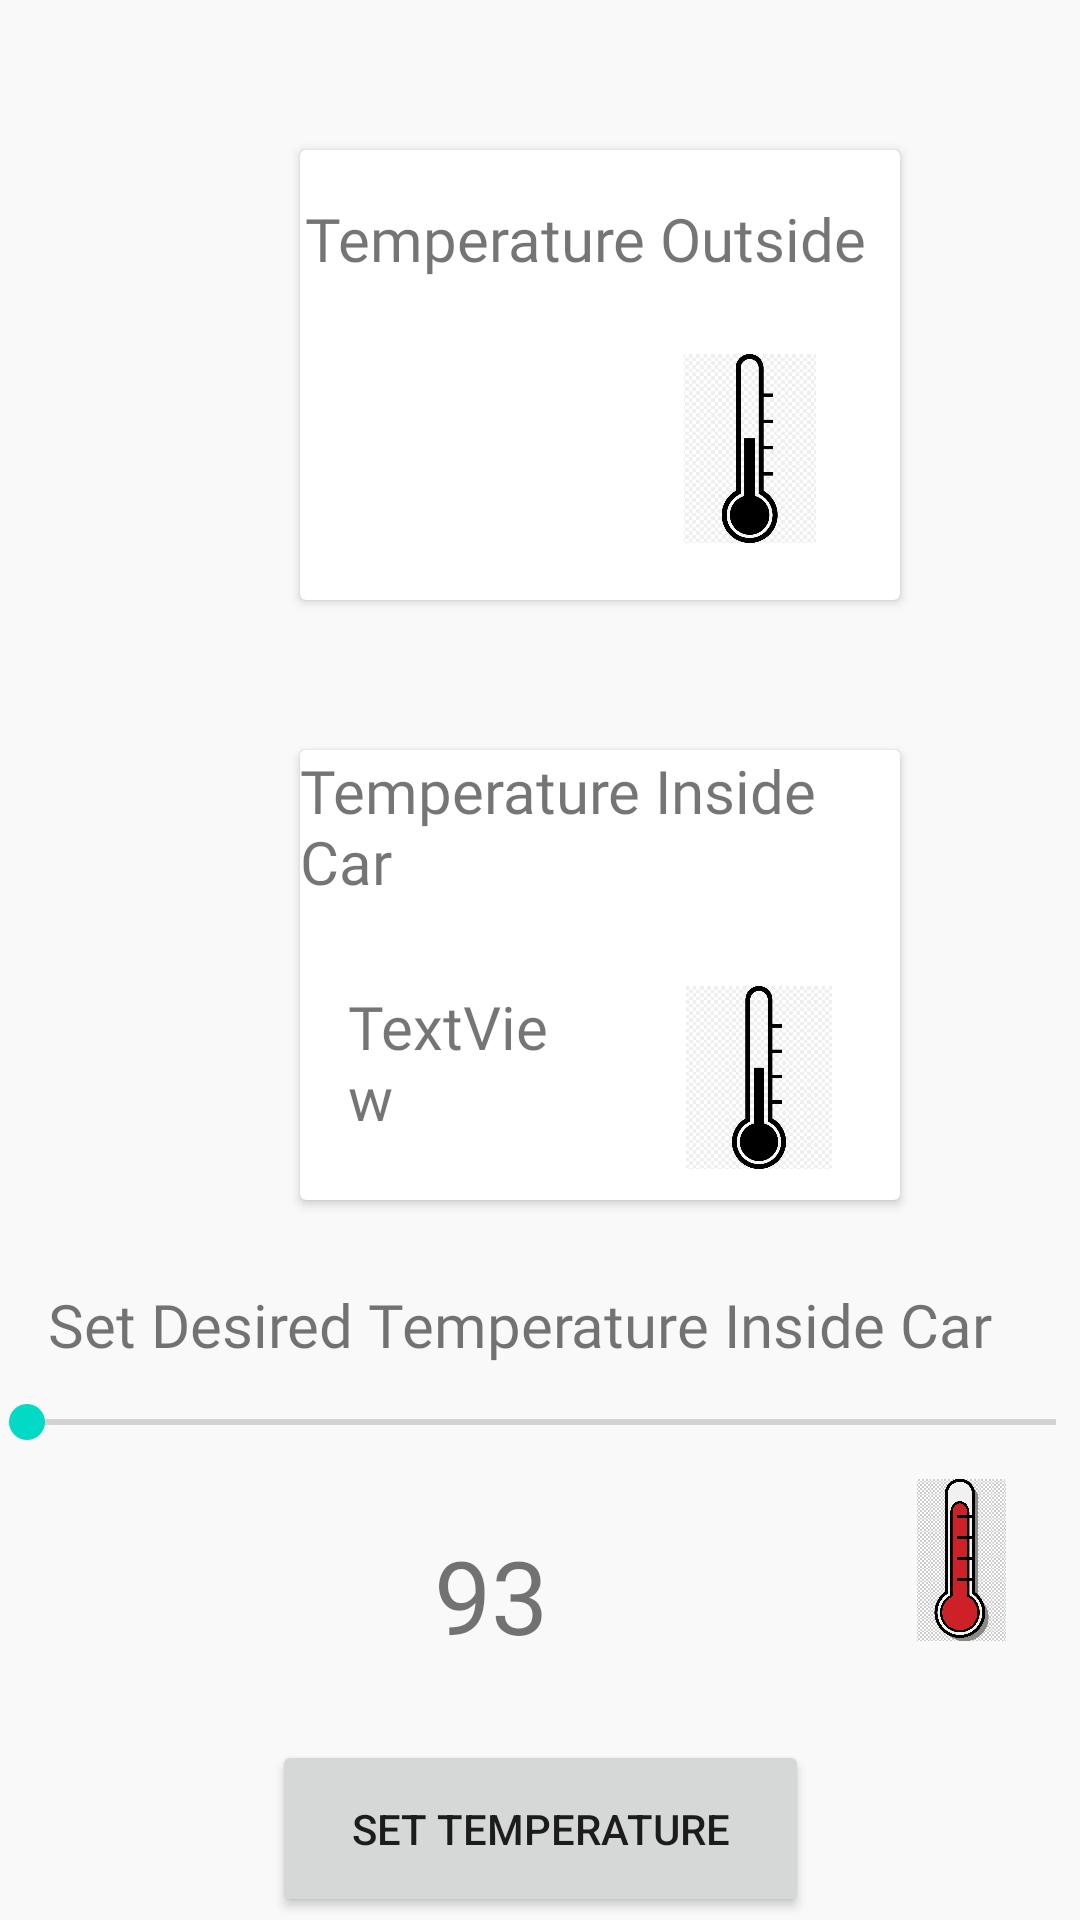

Where icons sit on this 1080*1920 app screen, as (x1, y1, x2, y2):
hotthermometer: (917, 1479, 1006, 1641)
neutralthermometer: (722, 354, 778, 543), (732, 986, 786, 1169)
